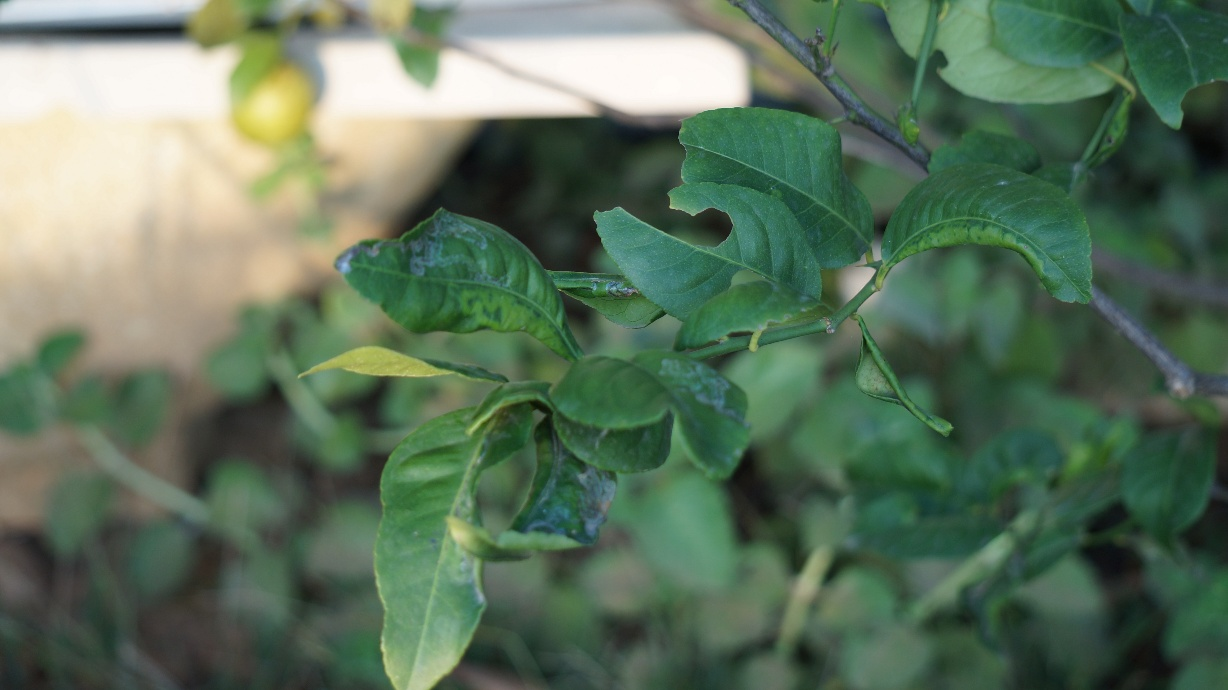curly: (835, 307, 977, 452)
damage: (328, 208, 528, 297), (538, 257, 670, 342), (523, 454, 623, 543), (655, 351, 746, 427)
